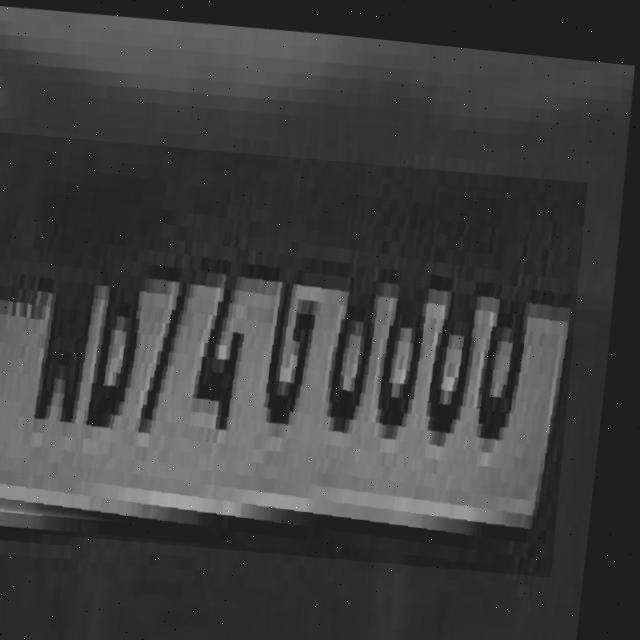LicensePlate: (0, 121, 597, 574)
